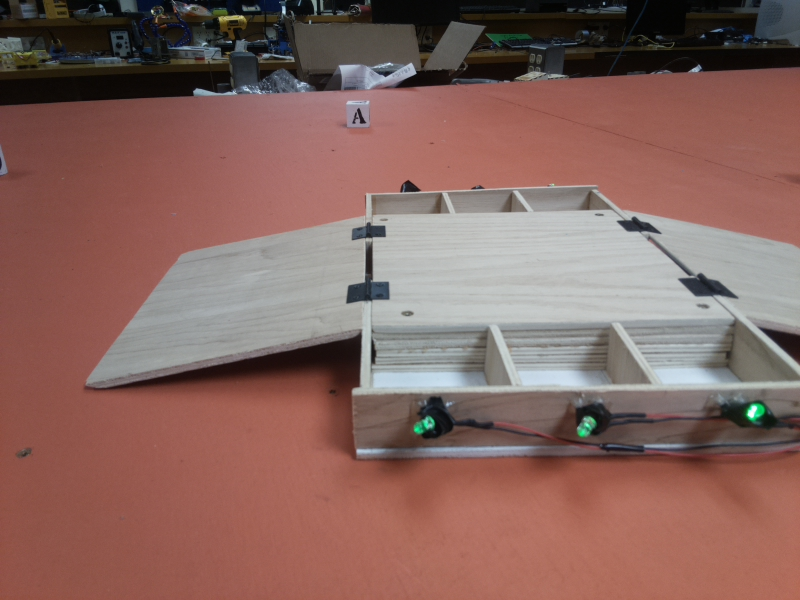blockA: (344, 99, 376, 128)
side: (345, 321, 800, 468)
slope: (88, 193, 366, 398), (624, 210, 800, 330)
